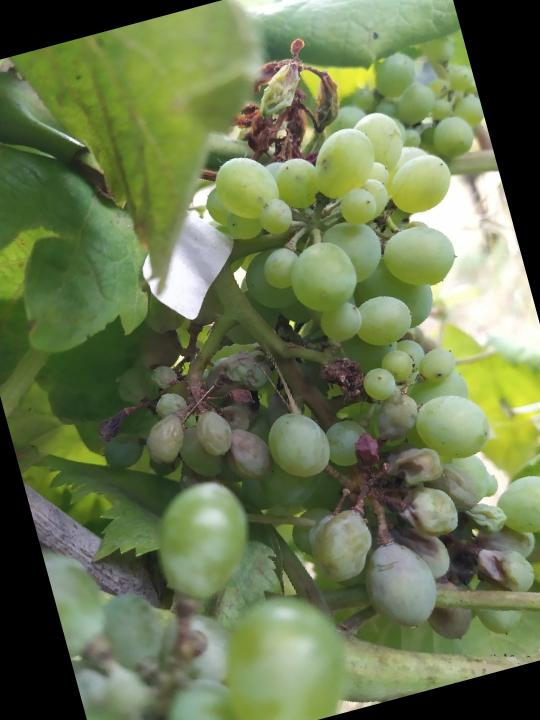grape: (73, 85, 540, 693)
